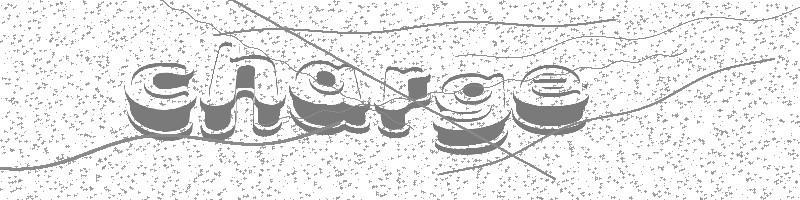a: (288, 58, 371, 135)
c: (125, 62, 198, 142)
e: (512, 64, 590, 137)
g: (432, 71, 510, 156)
h: (200, 41, 286, 142)
r: (372, 64, 431, 139)
